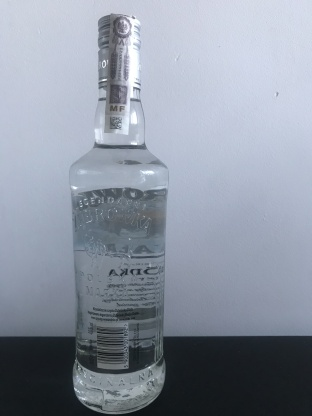nakretka: (94, 10, 143, 93)
